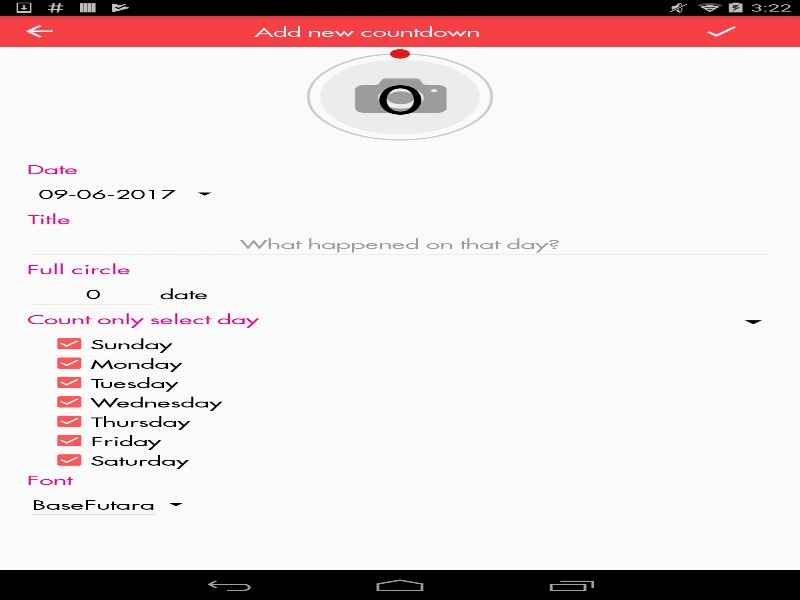Input: (26, 228, 773, 259), (26, 178, 188, 209), (26, 488, 160, 520), (26, 278, 160, 309)
